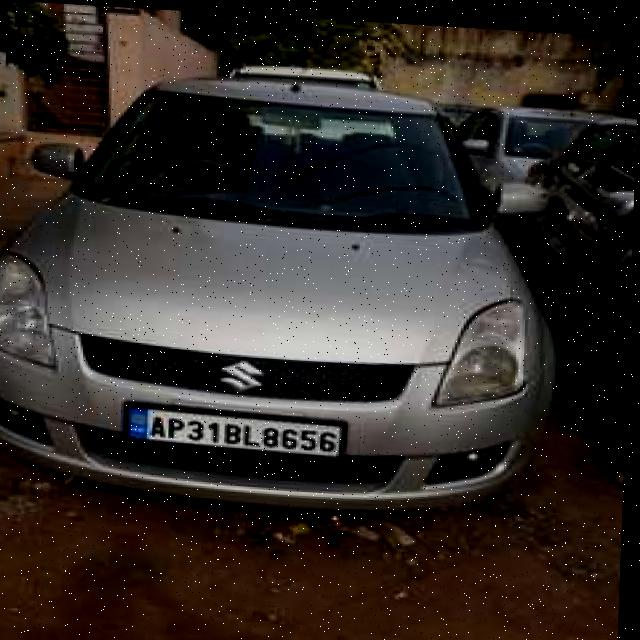plate: (126, 400, 350, 456)
